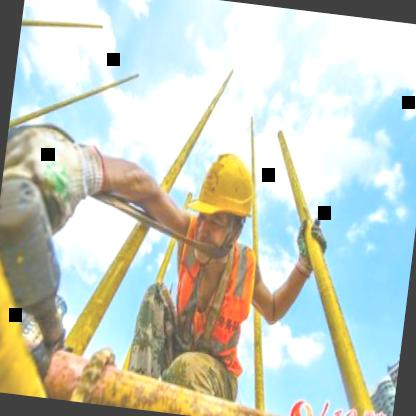helmet: (177, 138, 267, 276)
